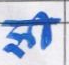i_matra: (36, 11, 50, 48)
